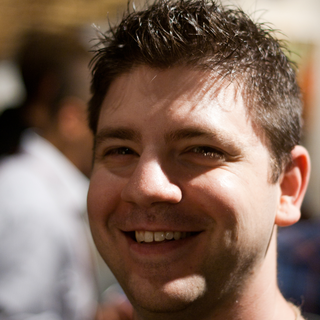eye: (175, 140, 231, 165), (98, 141, 143, 165)
